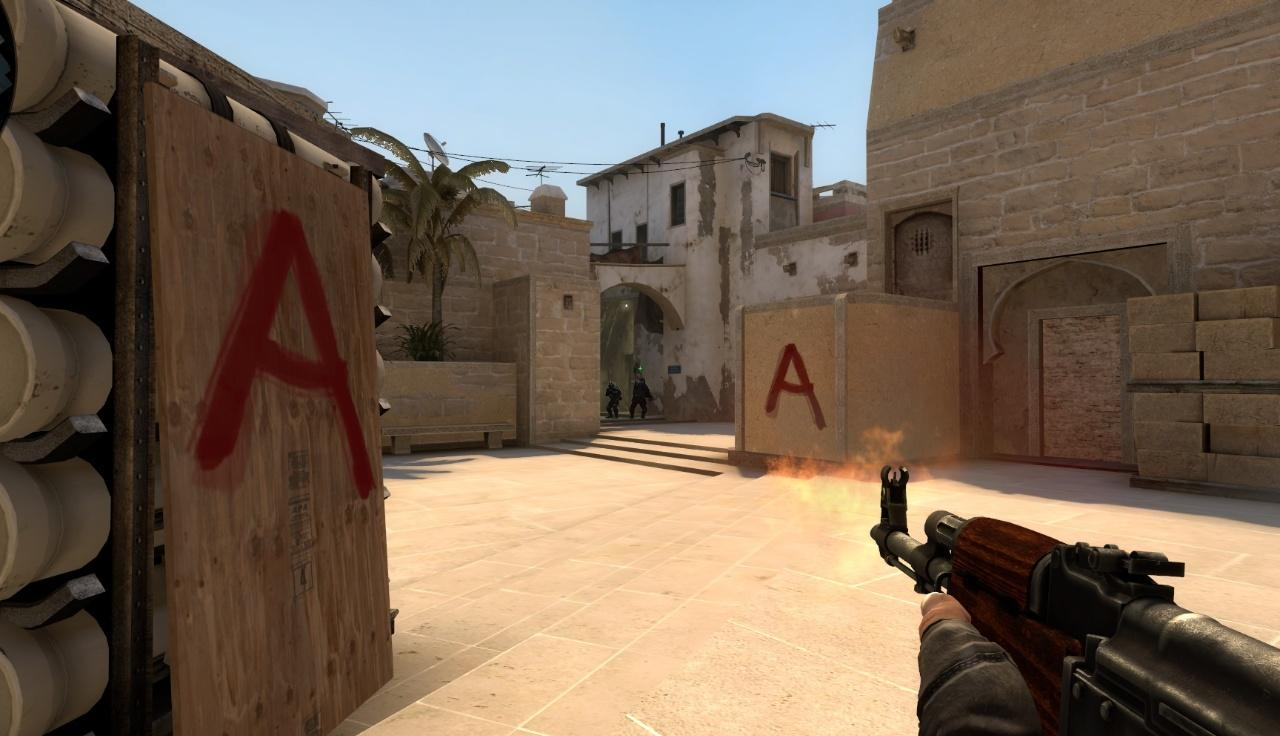ct: (630, 378, 654, 419), (604, 382, 622, 419)
cthead: (638, 378, 646, 384), (608, 382, 615, 388)
rifle: (855, 467, 1280, 736)
